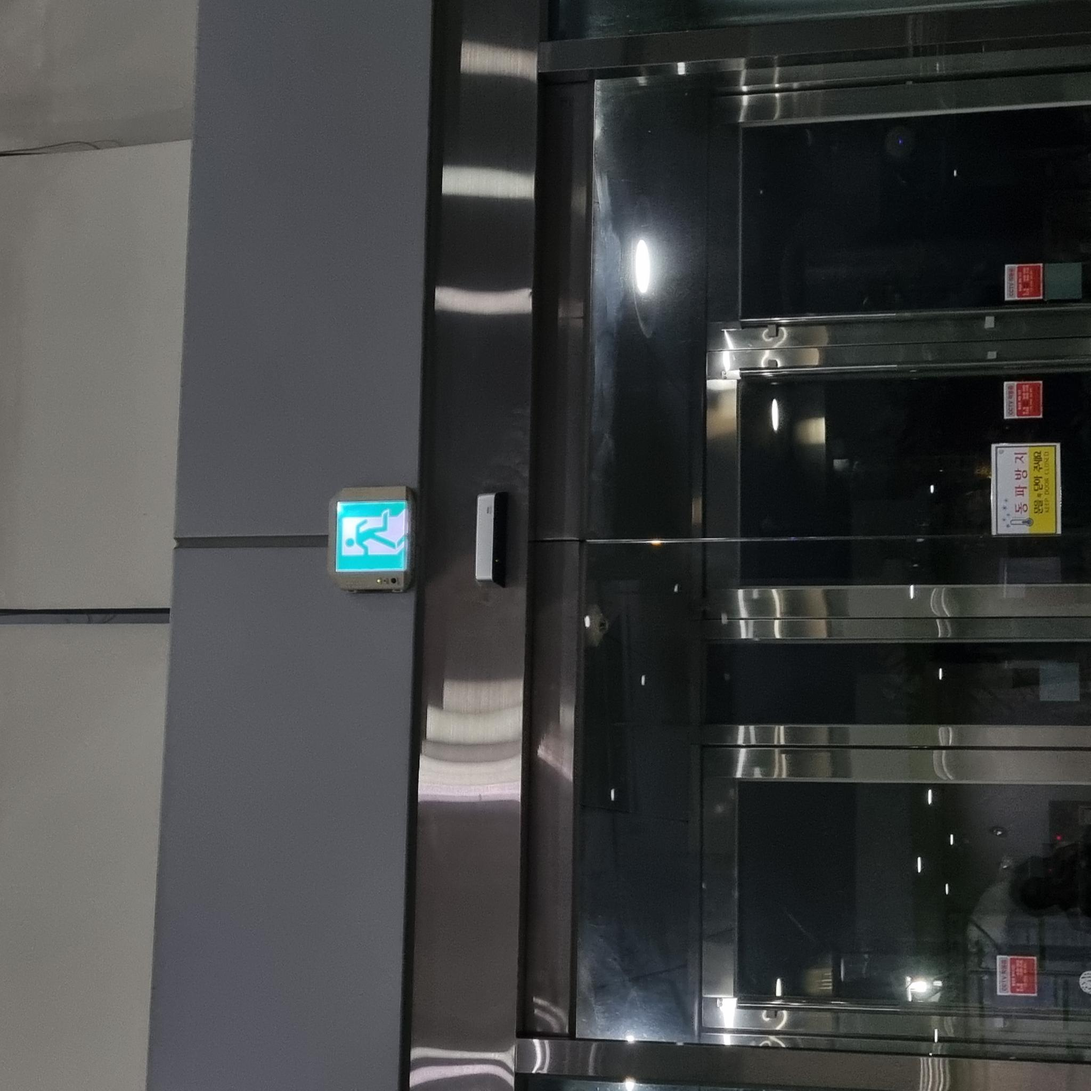emergency_exit: (326, 484, 416, 593), (989, 439, 1062, 538)
